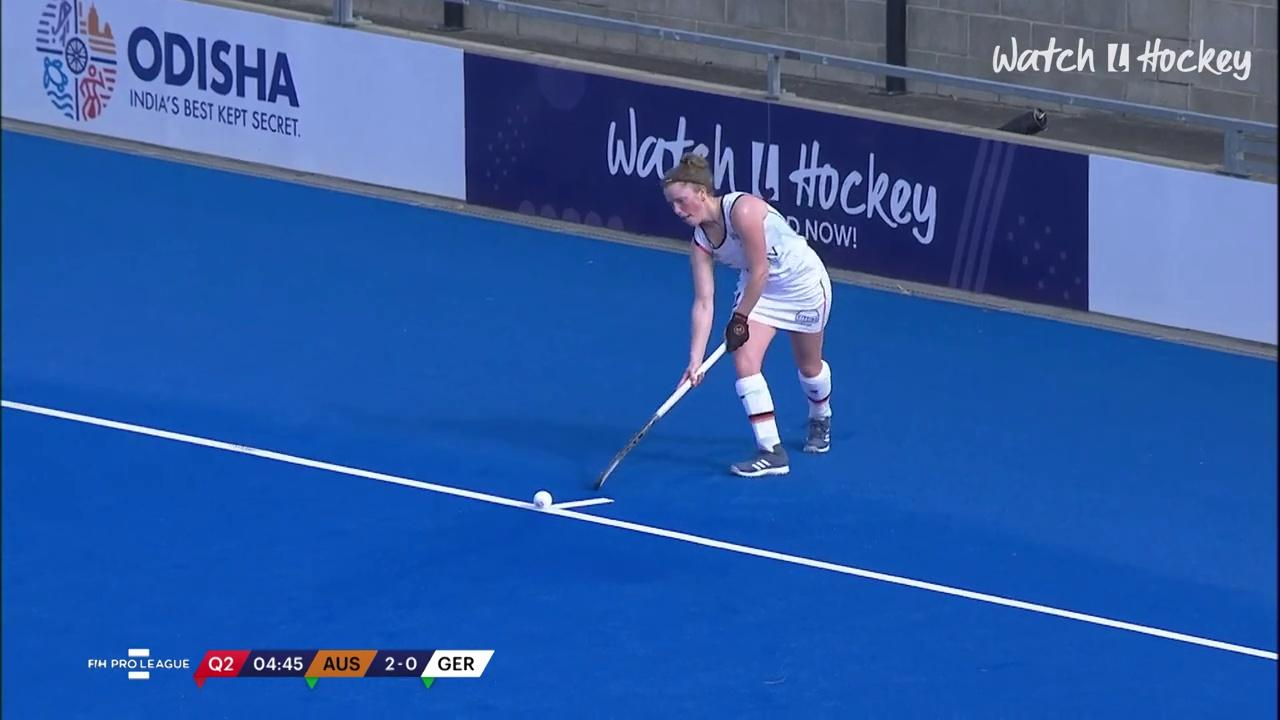ball: (510, 485, 577, 520)
